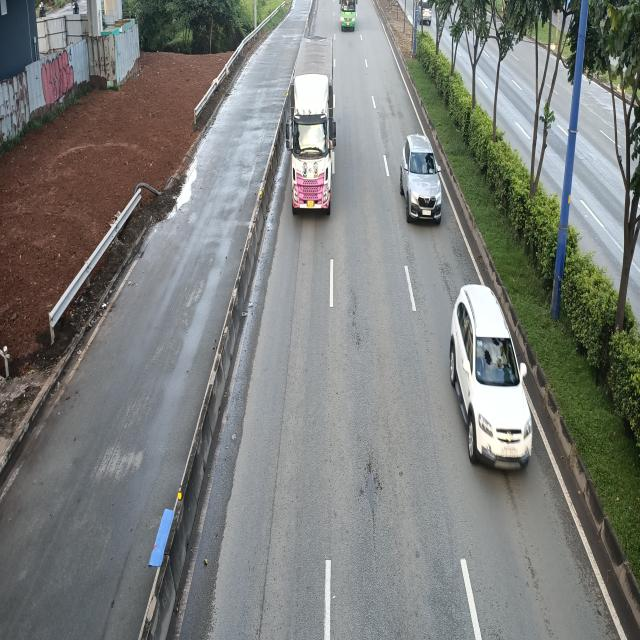car: (450, 282, 533, 470), (402, 132, 442, 224)
coach: (339, 0, 359, 31)
truck: (284, 36, 336, 218)
